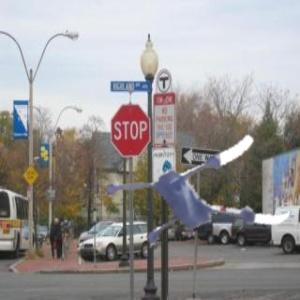drone: (105, 95, 294, 284)
